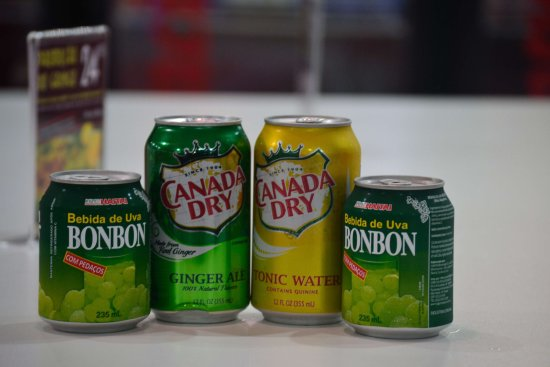Lata: (140, 107, 252, 330)
